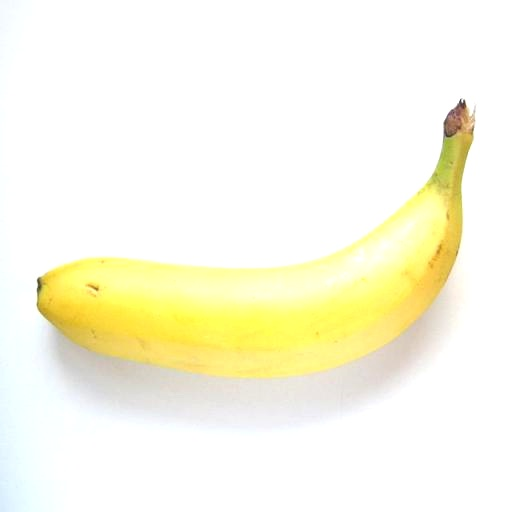fruit: (37, 100, 473, 376)
